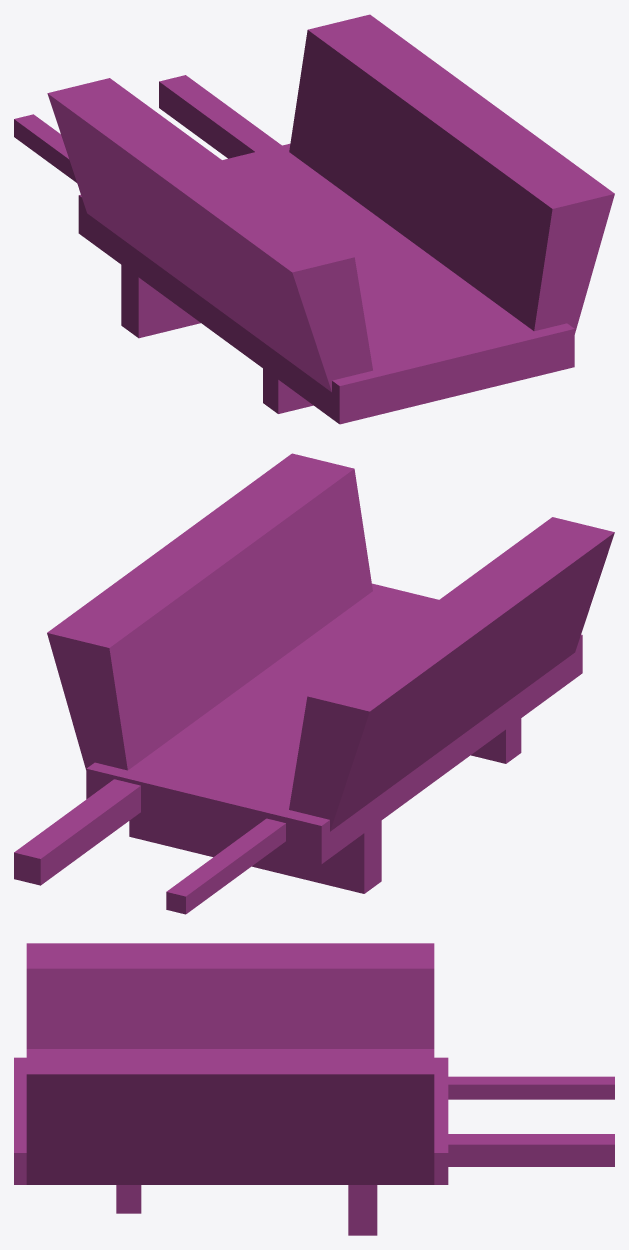
Rendered from SM_Veh_Cart_01_Collision.fbx.
The picture shows the model from 3 angles, top to bottom: view 1: azimuth 30°, elevation 25°; view 2: azimuth 150°, elevation 25°; view 3: azimuth 270°, elevation 25°; orthographic projection. The views are drawn at different scales.
Parts seen in each view (by area): view 1: SM_Veh_Cart_01_Collision; view 2: SM_Veh_Cart_01_Collision; view 3: SM_Veh_Cart_01_Collision.
Part boxes in pixels (x1,y1,x2,y2): SM_Veh_Cart_01_Collision: (14, 14, 614, 424); SM_Veh_Cart_01_Collision: (14, 453, 614, 914); SM_Veh_Cart_01_Collision: (14, 943, 614, 1235).
Bounding box in the file's own units: 176 × 113 × 340.
